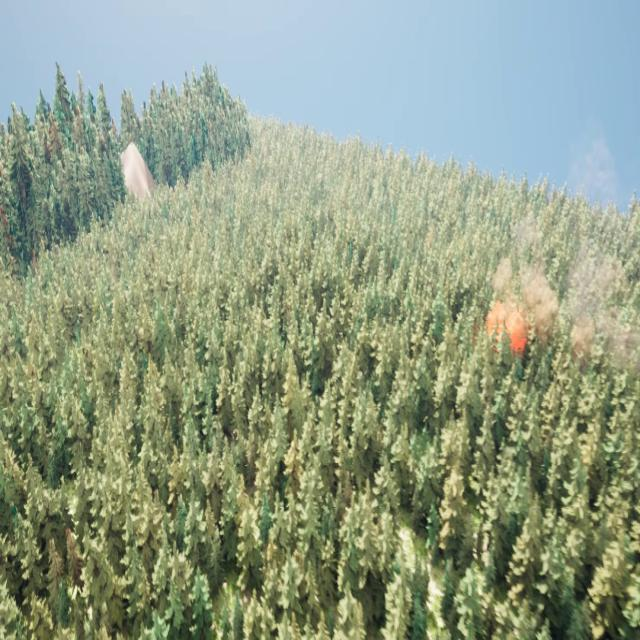fire: (489, 313, 528, 357)
smoke: (499, 133, 640, 373)
